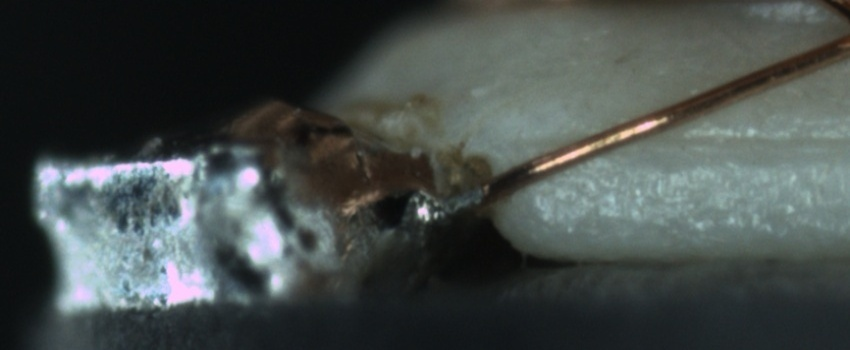DL: (548, 106, 849, 176)
